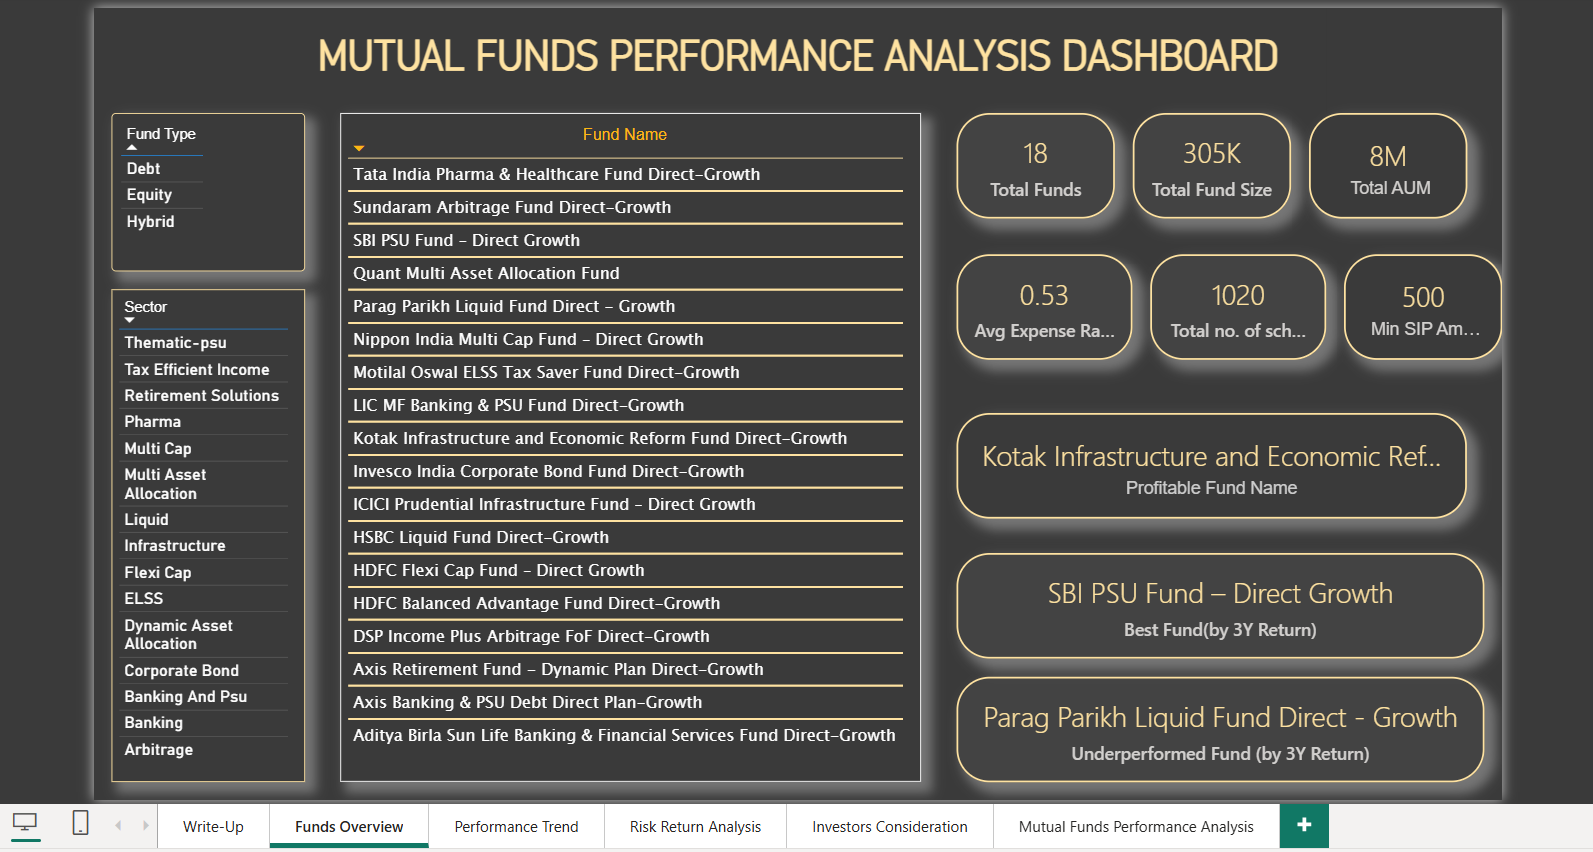

This screenshot's page, from the dashboard's own definition file:
{"tool":"powerbi","page":{"name":"Funds Overview","canvas":[1280,720],"ordinal":1},"visuals":[{"type":"textbox","box":[160,0,960,96],"z":0},{"type":"tableEx","fields":{"Values":["MF_Data.Fund Type"]},"box":[16,96,176,144],"z":1000},{"type":"tableEx","fields":{"Values":["MF_Data.Sector"]},"box":[16,256,176,448],"z":2000},{"type":"tableEx","fields":{"Values":["MF_Data.Fund Name"]},"box":[224,96,528,608],"z":3000},{"type":"card","fields":{"Values":["MF_Data.Total Funds"]},"box":[784,96,144,96],"z":4000},{"type":"card","fields":{"Values":["MF_Data.Total Fund Size"]},"box":[944,96,144,96],"z":5000},{"type":"card","fields":{"Values":["Sum(MF_Data.Number of schemes)"]},"box":[960,224,160,96],"z":6000},{"type":"card","fields":{"Values":["MF_Data.Avg Expense Ratio (Direct)"]},"box":[784,224,160,96],"z":7000},{"type":"card","fields":{"Values":["MF_Data.Best Fund"]},"box":[784,496,480,96],"z":8000},{"type":"card","fields":{"Values":["MF_Data.Underperformed Fund (by 3Y Return)"]},"box":[784,608,480,96],"z":9000},{"type":"card","fields":{"Values":["Median(MF_Data.Min SIP Amount(₹))"]},"box":[1136,224,144,96],"z":10000},{"type":"card","fields":{"Values":["Sum(MF_Data.Total AUM(Cr))"]},"box":[1104,96,144,96],"z":11000},{"type":"card","fields":{"Values":["MF_Data.Profitable Fund Name"]},"box":[784,368,464,96],"z":12000}]}

Visuals, with their boxes on the page's 1280x720 design canvas (x1, y1, x2, y2). These are canvas units, not pixel positions in the 1593x852 screenshot, which may show the page scaled, cropped or inside an application window:
textbox: rect(160, 0, 1120, 96)
tableEx - MF_Data.Fund Type: rect(16, 96, 192, 240)
tableEx - MF_Data.Sector: rect(16, 256, 192, 704)
tableEx - MF_Data.Fund Name: rect(224, 96, 752, 704)
card - MF_Data.Total Funds: rect(784, 96, 928, 192)
card - MF_Data.Total Fund Size: rect(944, 96, 1088, 192)
card - Sum(MF_Data.Number of schemes): rect(960, 224, 1120, 320)
card - MF_Data.Avg Expense Ratio (Direct): rect(784, 224, 944, 320)
card - MF_Data.Best Fund: rect(784, 496, 1264, 592)
card - MF_Data.Underperformed Fund (by 3Y Return): rect(784, 608, 1264, 704)
card - Median(MF_Data.Min SIP Amount(₹)): rect(1136, 224, 1280, 320)
card - Sum(MF_Data.Total AUM(Cr)): rect(1104, 96, 1248, 192)
card - MF_Data.Profitable Fund Name: rect(784, 368, 1248, 464)
